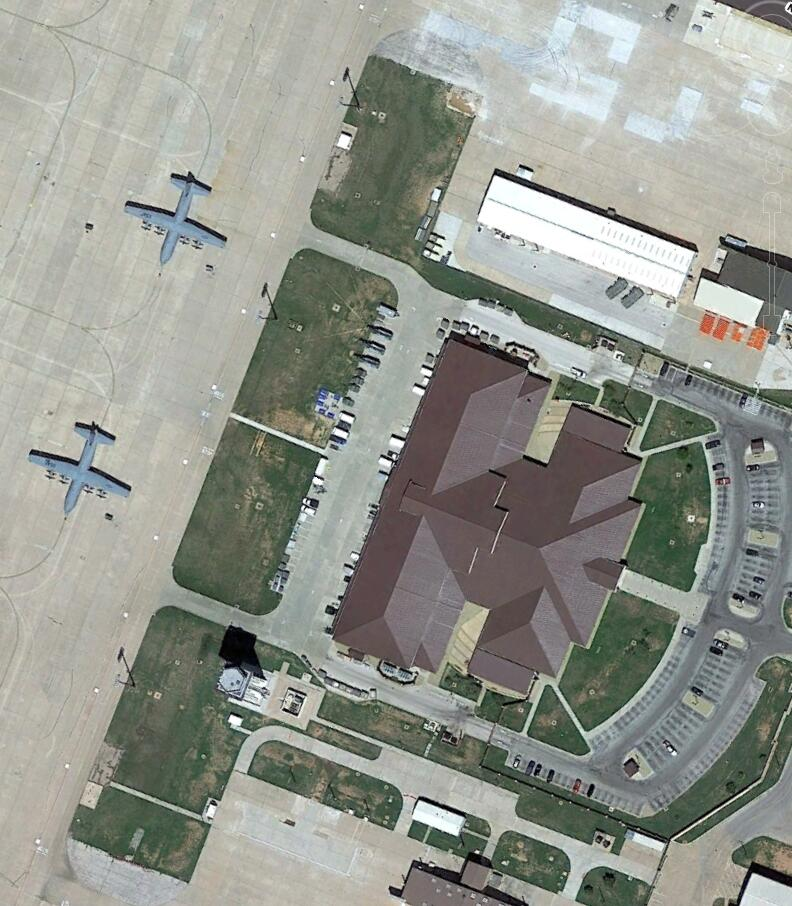A2: (25, 413, 140, 526), (121, 165, 231, 271)
